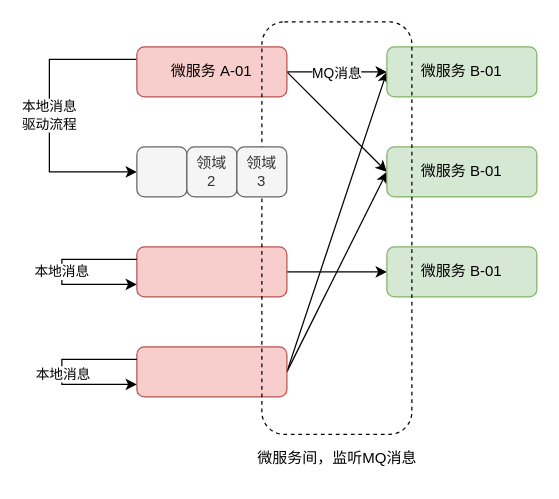
This 559x499 diagram has some shape labels left out. The centre of each missing label's shape, as x and y in pixels:
"微服务 A-02" belongs at (x=211, y=271).
"微服务 A-03" belongs at (x=211, y=371).
"领域 1" belongs at (x=161, y=171).
